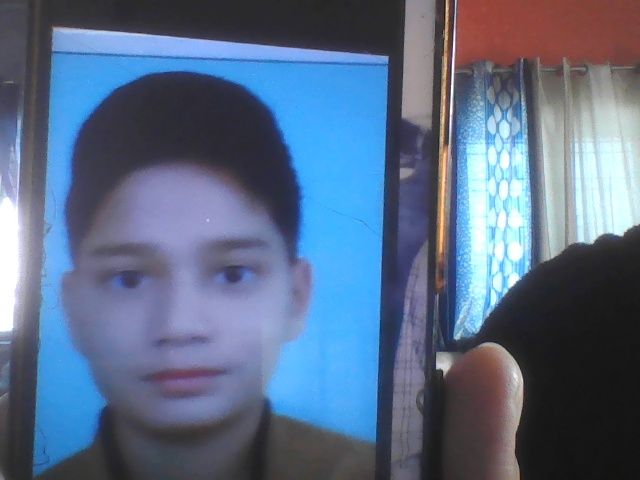fake: (49, 87, 315, 464)
